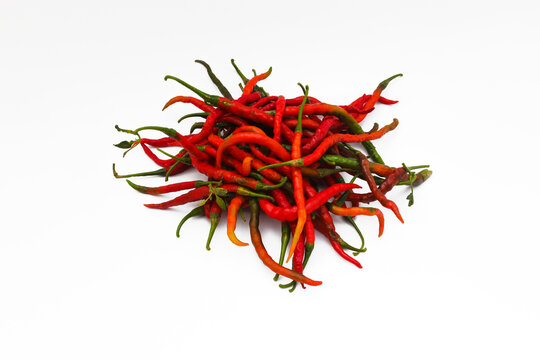Cabai: (126, 60, 438, 289)
